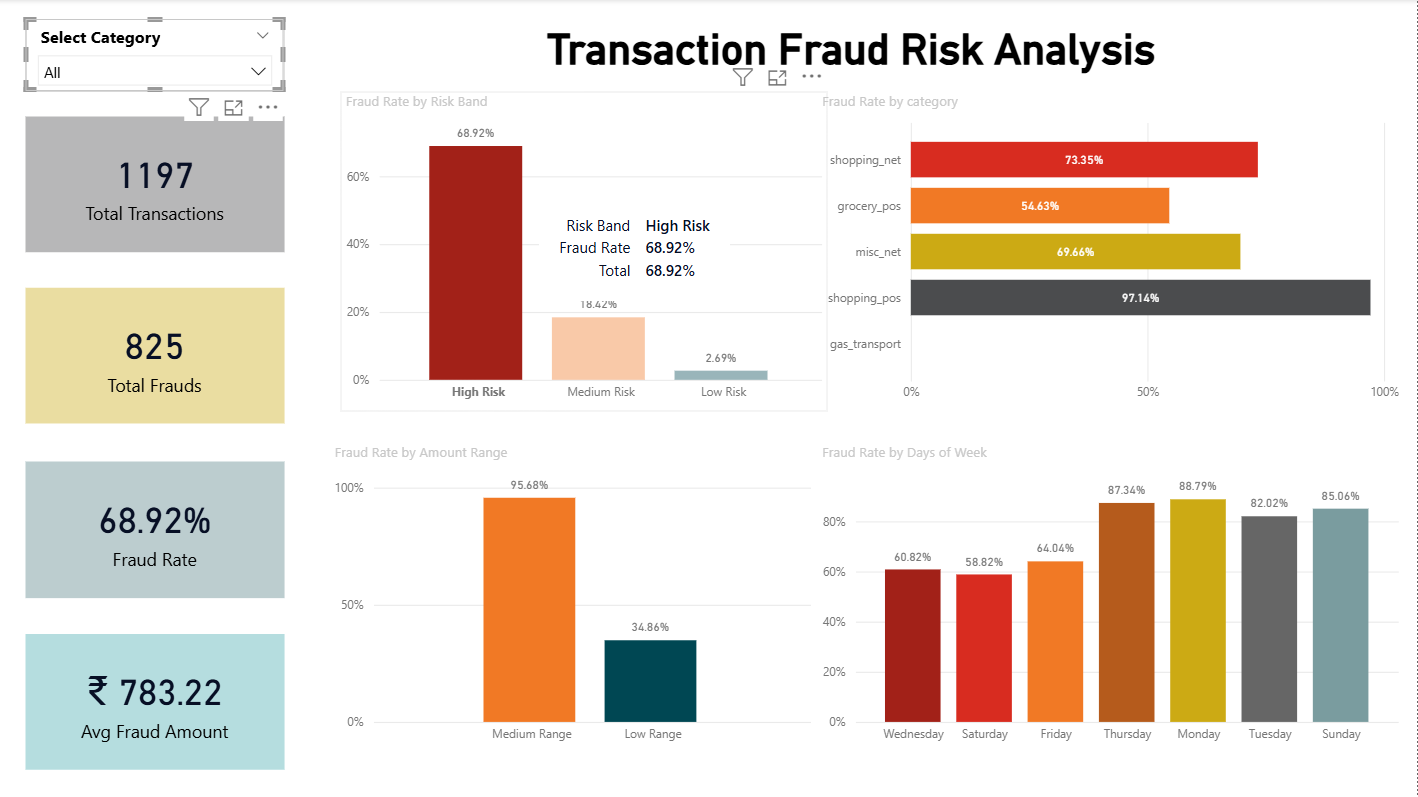

Layout of this report page (visuals, bound fields, positions):
{"tool":"powerbi","page":{"name":"Page 1","canvas":[1280,720],"ordinal":0},"visuals":[{"type":"card","fields":{"Values":["Fraud Data Analysis.Total Transactions"]},"box":[24.7,105.7,233.3,122.1],"z":0},{"type":"card","fields":{"Values":["Fraud Data Analysis.Avg Fraud Amount"]},"box":[24.7,572.2,233.3,122.1],"z":1000},{"type":"card","fields":{"Values":["Fraud Data Analysis.Fraud Rate"]},"box":[24.7,417.2,233.3,123.5],"z":2000},{"type":"card","fields":{"Values":["Fraud Data Analysis.Total Frauds"]},"box":[24.7,260.7,233.3,122.1],"z":3000},{"type":"columnChart","title":"Fraud Rate by Risk Band","fields":{"Category":["Fraud Data Analysis.risk_band"],"Series":["Fraud Data Analysis.risk_band"],"Y":["Fraud Data Analysis.Fraud Rate"]},"box":[308.7,83.7,439.1,288.2],"z":4000},{"type":"columnChart","title":"Fraud Rate by Amount Range","fields":{"Category":["Fraud Data Analysis.amt_range"],"Y":["Fraud Data Analysis.Fraud Rate"],"Series":["Fraud Data Analysis.amt_range"]},"box":[299.1,400.7,439.1,279.9],"z":5000},{"type":"barChart","title":"Fraud Rate by category ","fields":{"Category":["Fraud Data Analysis.category"],"Y":["Fraud Data Analysis.Fraud Rate"],"Series":["Fraud Data Analysis.category"]},"box":[738.3,83.7,529.7,288.2],"z":6000},{"type":"columnChart","title":"Fraud Rate by Days of Week","fields":{"Series":["Fraud Data Analysis.weekday"],"Y":["Fraud Data Analysis.Fraud Rate"],"Category":["Fraud Data Analysis.weekday"]},"box":[738.3,400.7,529.7,279.9],"z":7000},{"type":"textbox","box":[440.5,17.8,657.3,61.7],"z":8000},{"type":"slicer","fields":{"Values":["Fraud Data Analysis.category"]},"box":[24.7,17.8,233.3,65.9],"z":9000}]}

Visuals, with their boxes in screenshot pixels (x1, y1, x2, y2), scaled from the page's 1280x720 canvas onto the 1418x797 screenshot:
card - Fraud Data Analysis.Total Transactions: 27 117 286 252
card - Fraud Data Analysis.Avg Fraud Amount: 27 633 286 769
card - Fraud Data Analysis.Fraud Rate: 27 462 286 599
card - Fraud Data Analysis.Total Frauds: 27 289 286 424
"Fraud Rate by Risk Band" columnChart: 342 93 828 412
"Fraud Rate by Amount Range" columnChart: 331 444 818 753
"Fraud Rate by category " barChart: 818 93 1405 412
"Fraud Rate by Days of Week" columnChart: 818 444 1405 753
textbox: 488 20 1216 88
slicer - Fraud Data Analysis.category: 27 20 286 93
